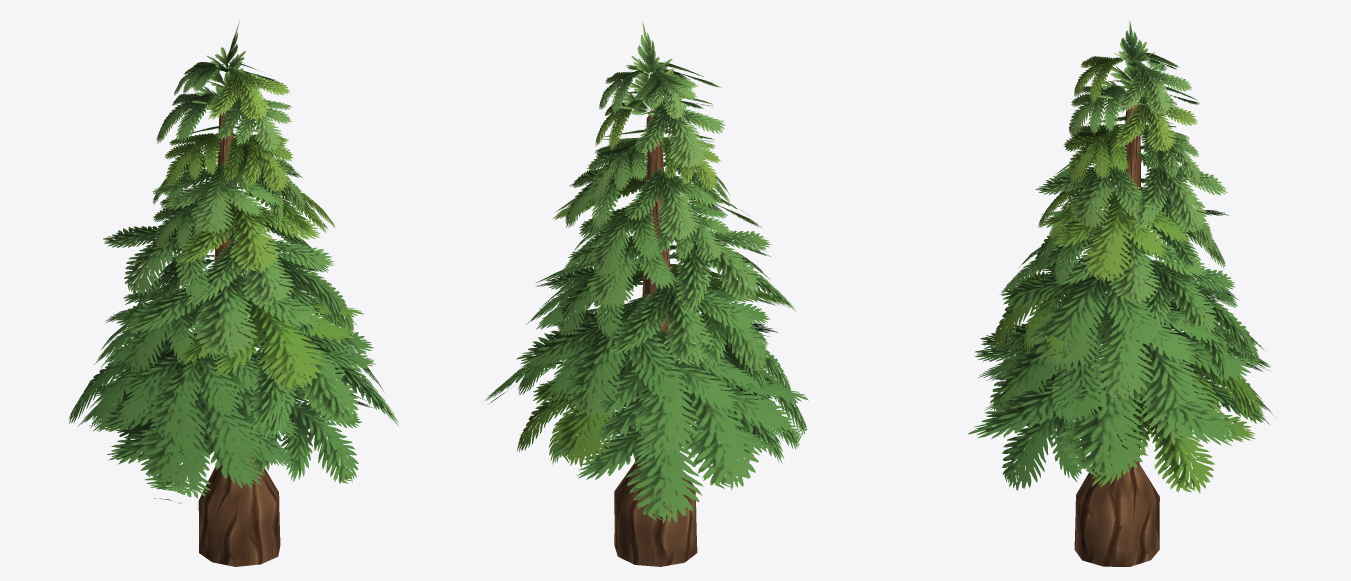
Rendered from fir_small.glb.
3 renders of one model, left to right at view 1: azimuth 30°, elevation 25°; view 2: azimuth 150°, elevation 25°; view 3: azimuth 270°, elevation 25°, orthographic. The views are drawn at different scales.
Parts seen in each view (by area): view 1: fir_small_leaves_LOD0, fir_small_trunk_LOD0; view 2: fir_small_leaves_LOD0, fir_small_trunk_LOD0; view 3: fir_small_leaves_LOD0, fir_small_trunk_LOD0.
Part boxes in pixels (x1=…): fir_small_leaves_LOD0: x1=69, y1=20, x2=398, y2=503; fir_small_trunk_LOD0: x1=198, y1=110, x2=280, y2=566; fir_small_leaves_LOD0: x1=482, y1=21, x2=808, y2=523; fir_small_trunk_LOD0: x1=614, y1=110, x2=697, y2=566; fir_small_leaves_LOD0: x1=967, y1=21, x2=1275, y2=492; fir_small_trunk_LOD0: x1=1074, y1=103, x2=1159, y2=566.
Size of what is drawn, in the model's own units: 4.96 by 7.2 by 5.25.
Materials: 2 (2 with a texture image).
